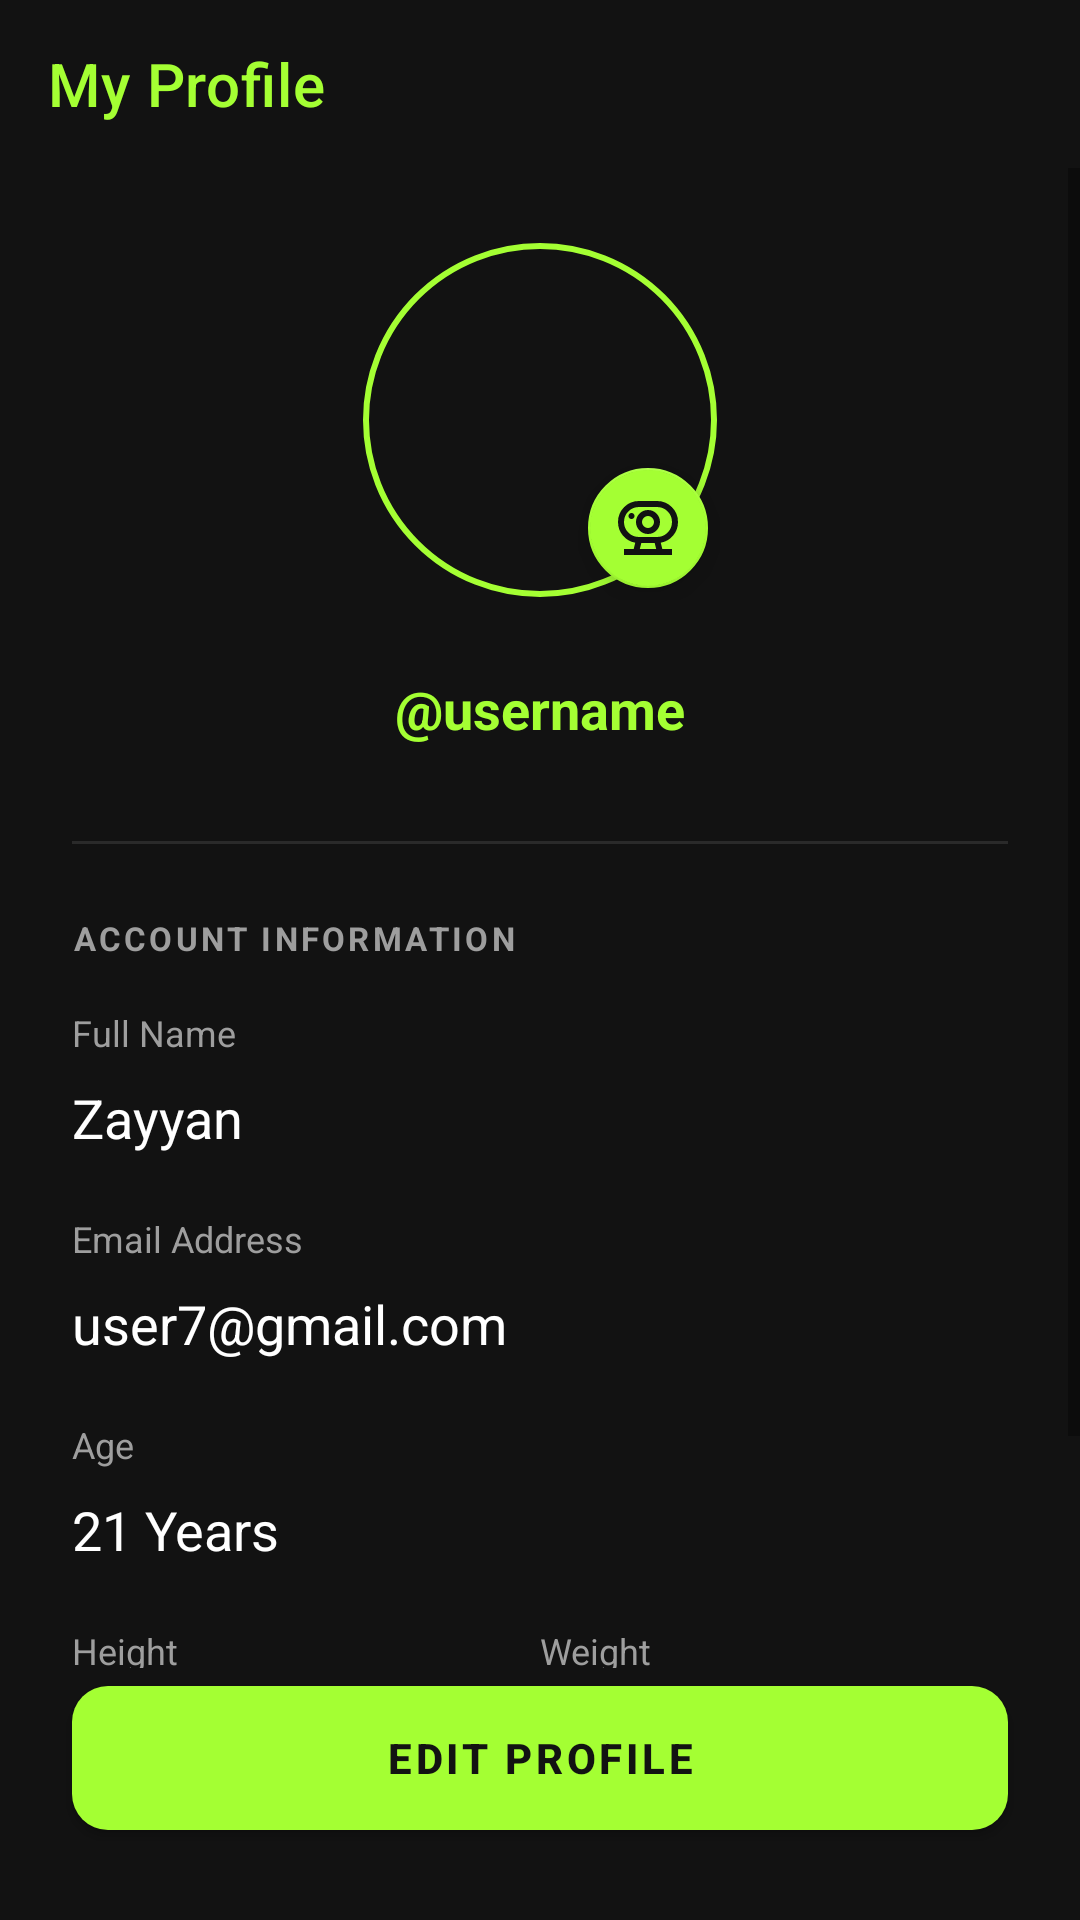

Icons on this 1080×1920 Android screen, each with the point to tap as (x=x, y=y):
camera: (x=644, y=524)
